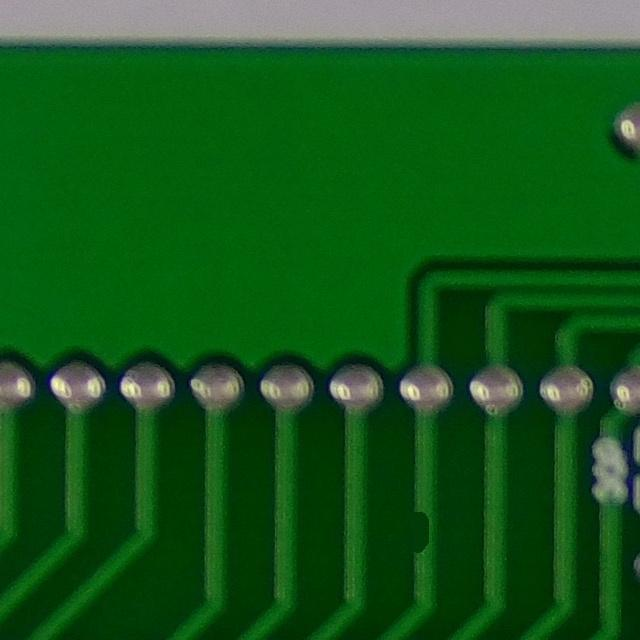mouse_bite: (397, 497, 450, 566)
